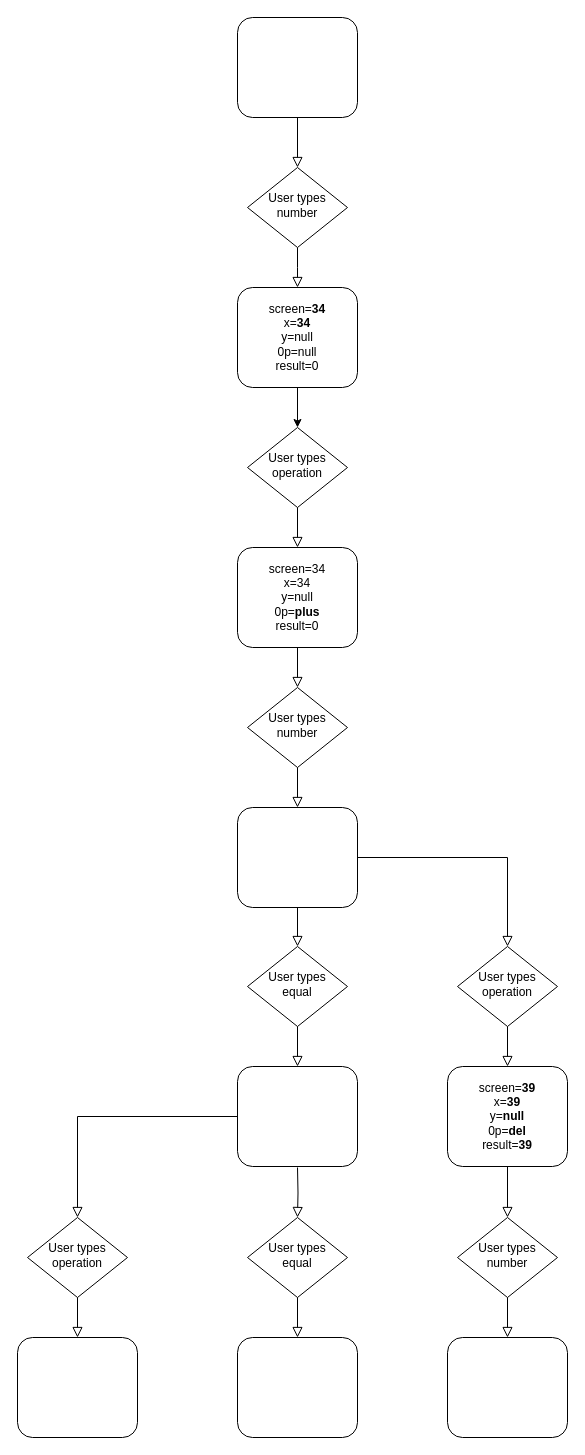
Image size: 585x1455. Some labels were removed from this diagram. The centre of each missing label's shape, as x and y in pixels:
"screen= 10 x=39 y= 10 0p=del result=39" goes at point (507, 1387).
"screen= 39 x= 39 y=5 0p=plus result= 39" goes at point (297, 1116).
"screen= 44 x= 44 y=5 0p=plus result= 44" goes at point (297, 1387).
"screen= 5 x=34 y= 5 0p=plus result=0" goes at point (297, 857).
"screen=0 x=null y=null 0p=null result=0" goes at point (297, 67).
"screen=39 x=39 y= null 0p= del result=39" goes at point (77, 1387).
